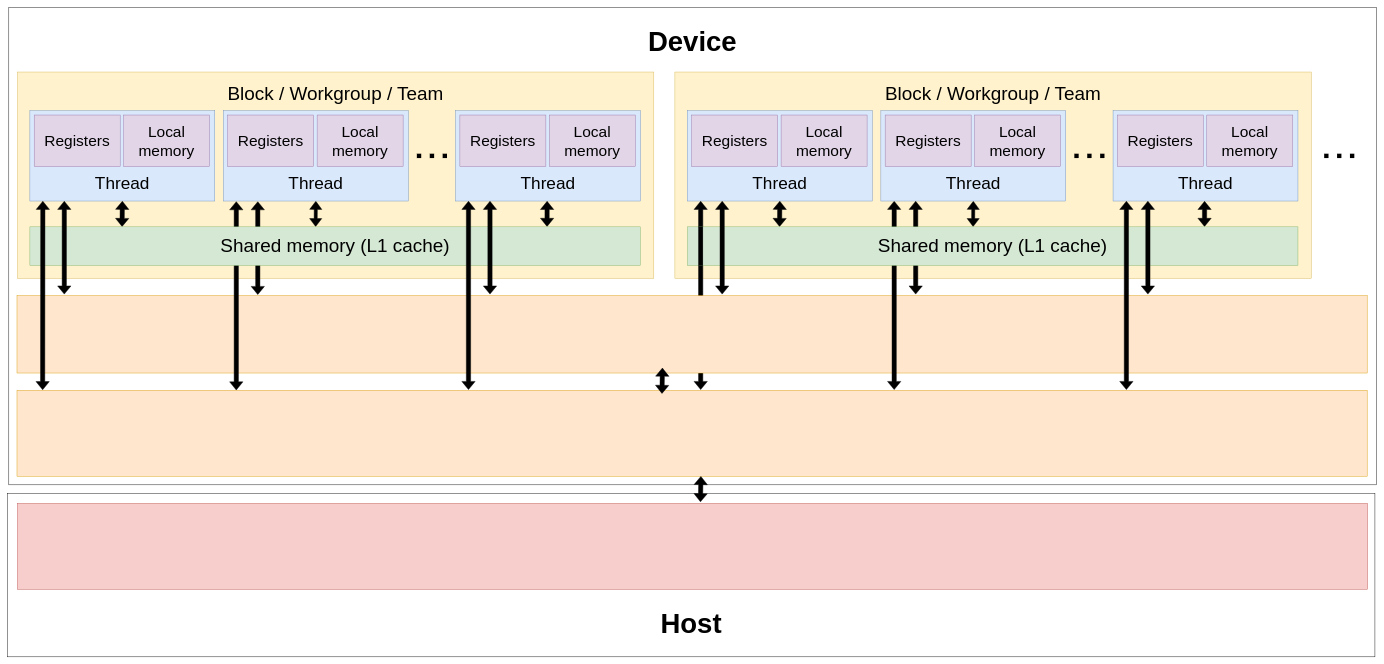
Some shapes in this 1384 by 664 pixel diagram are drawn without their labels. Each missing label, with the centre of its shape:
"Global memory (VRAM)" goes at pixel 692 433.
"Host memory (DRAM, HBM)" goes at pixel 692 546.
"L2 Cache" goes at pixel 692 334.
